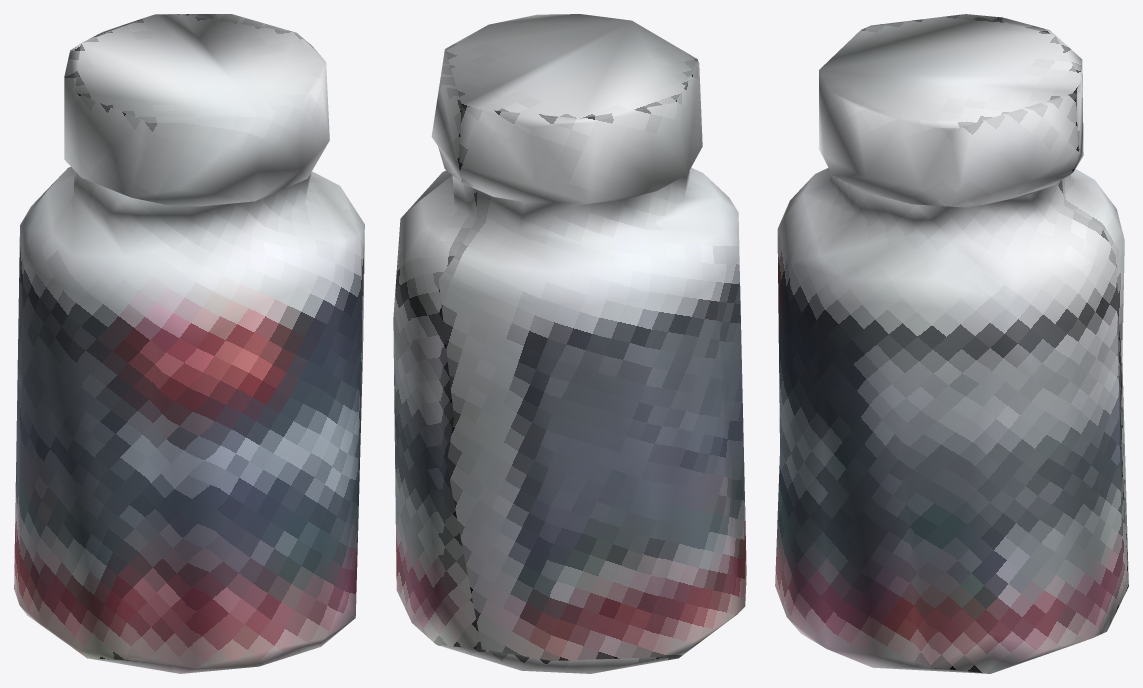
Rendered from NattoMax-low.glb.
The picture shows the model from 3 angles, left to right: view 1: azimuth 30°, elevation 25°; view 2: azimuth 150°, elevation 25°; view 3: azimuth 270°, elevation 25°; orthographic projection.
Parts seen in each view (by area): view 1: NattoMax; view 2: NattoMax; view 3: NattoMax.
Boxes of the visible parts, x1=… form: NattoMax: x1=14, y1=14, x2=364, y2=673; NattoMax: x1=393, y1=14, x2=746, y2=673; NattoMax: x1=775, y1=14, x2=1128, y2=673.
Size of the model in its own units: 0.0524 by 0.0884 by 0.0521.
Materials: 1 (1 with a texture image).
